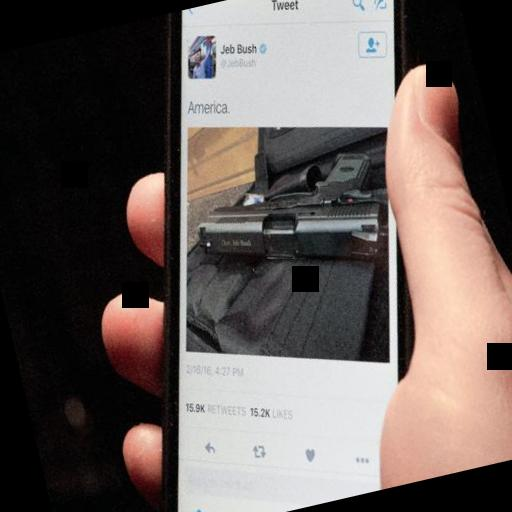Handgun: (182, 143, 396, 298)
